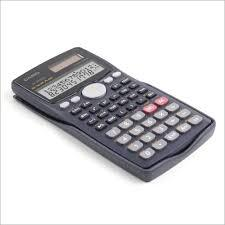Calculator: (6, 40, 221, 186)
